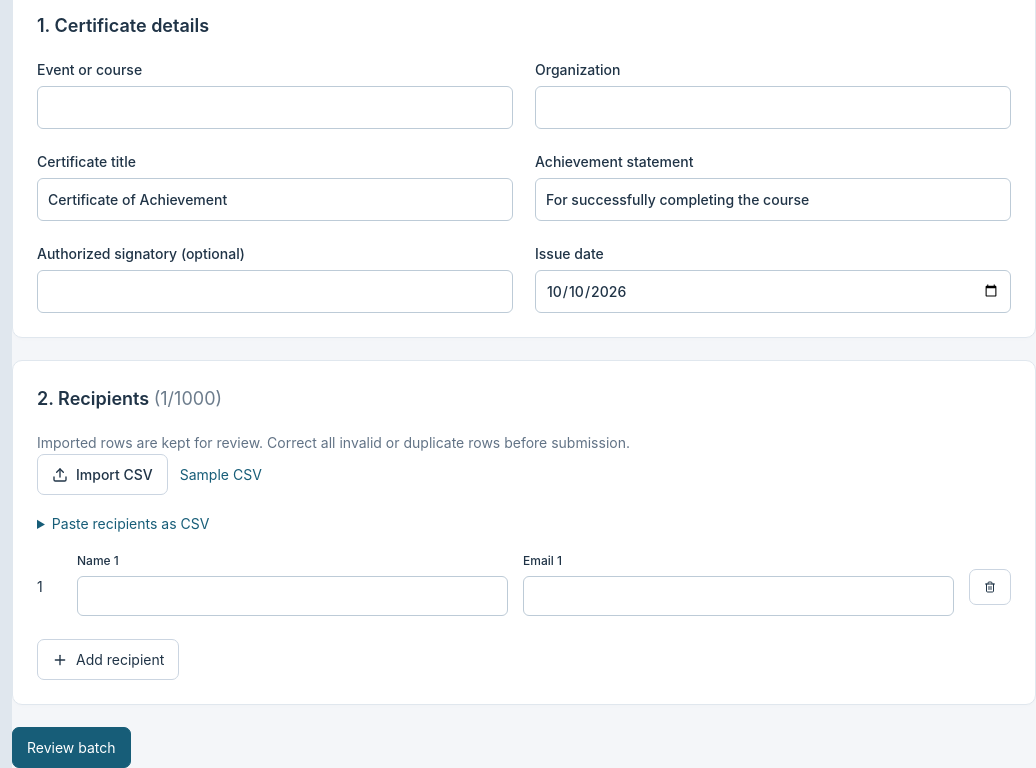
Test: manual rows add and remove and validation errors display
(page scrolled)
Click the button "Add recipient" at (108, 660), box [37, 639, 179, 680]
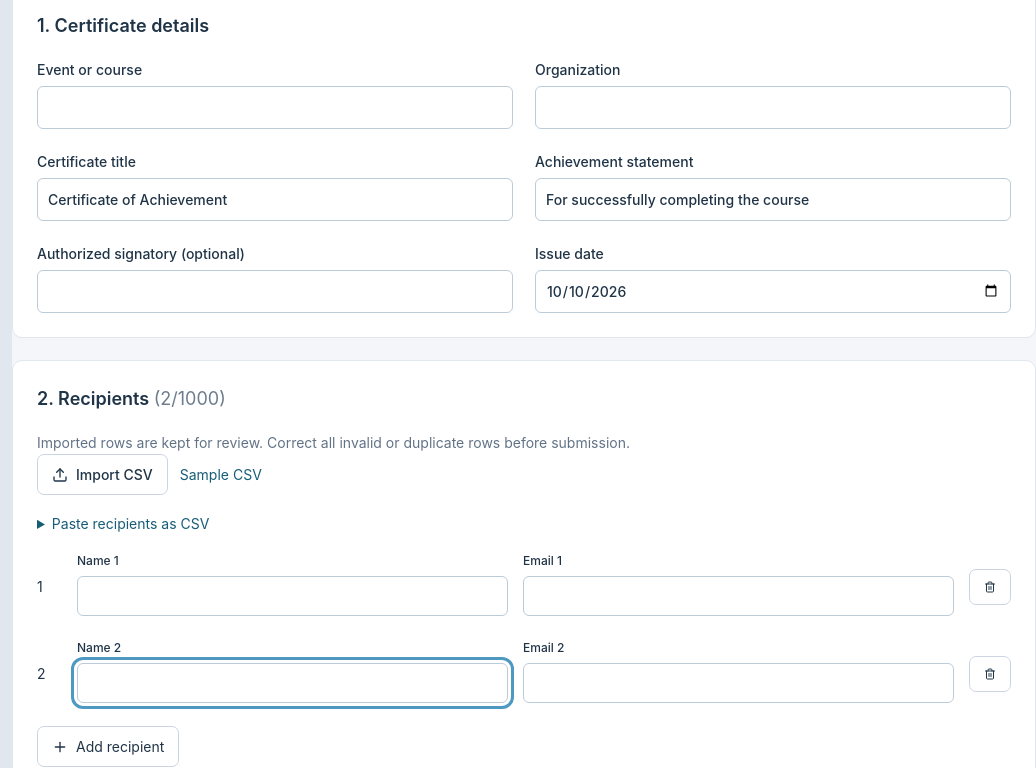
Expected: the field labelled "Name 2" is shown, [77, 663, 508, 703]
Click the button named "Remove recipient 2" at (990, 674), box [969, 656, 1011, 692]
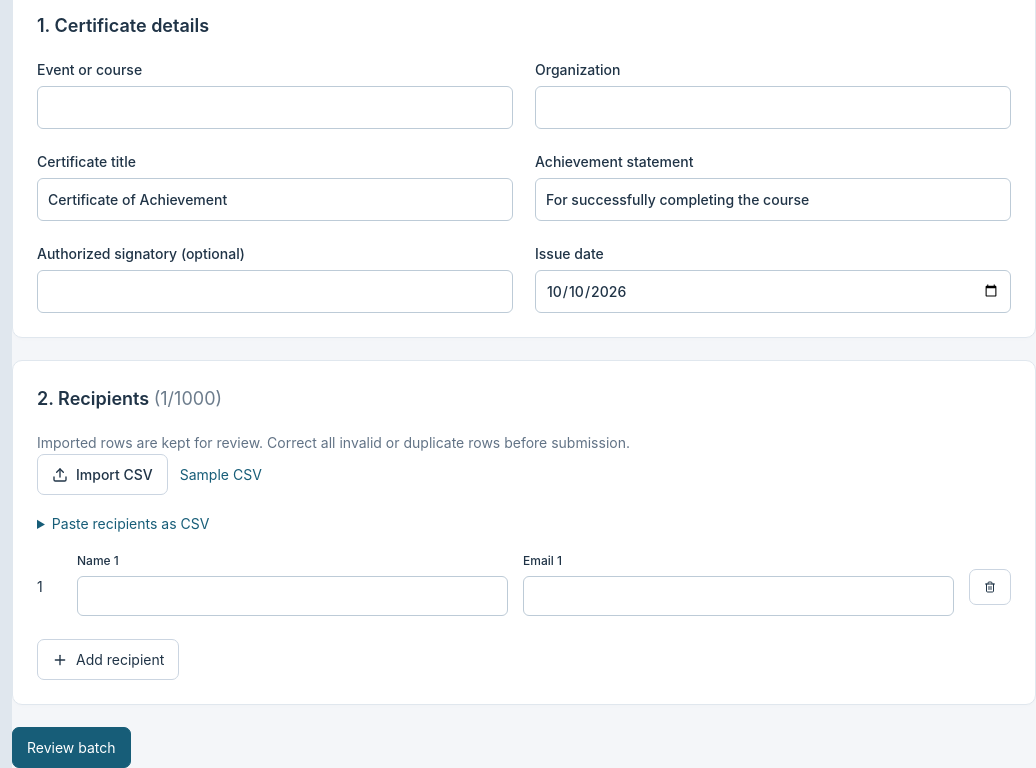
Expected: the label labelled "Name 2" is gone
Click the button "Review batch" at (71, 748), box [12, 727, 130, 767]
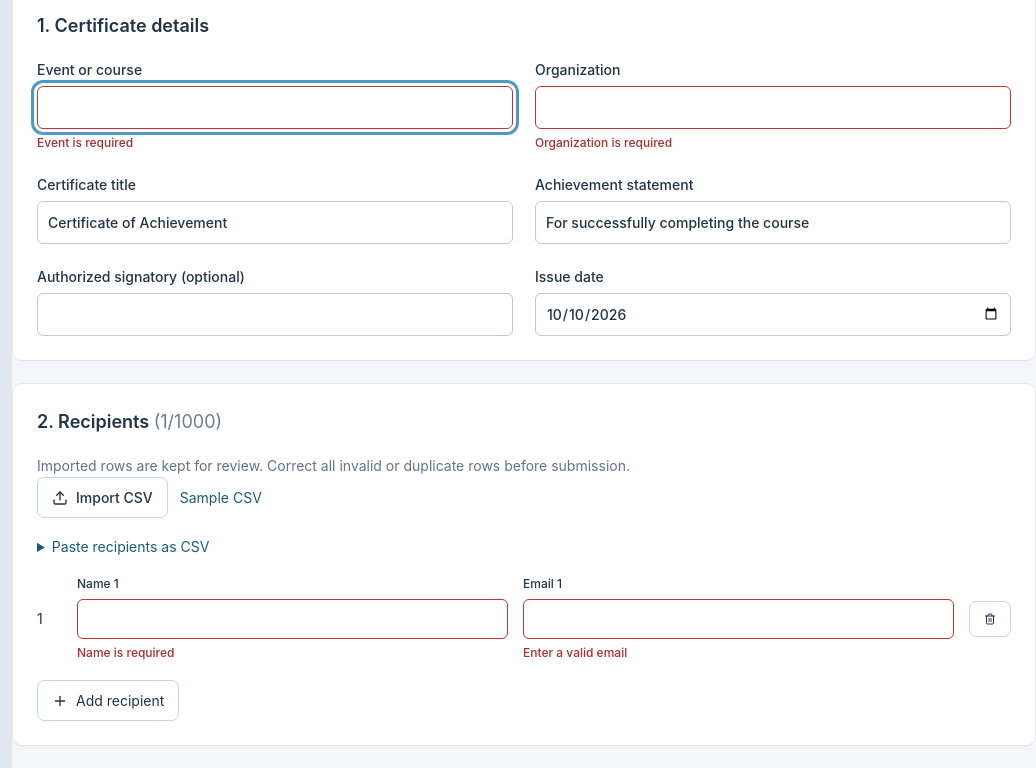
Expected: the text "Event is required" is shown, [37, 135, 133, 150]
Expected: the text "Name is required" is shown, [77, 645, 174, 660]
